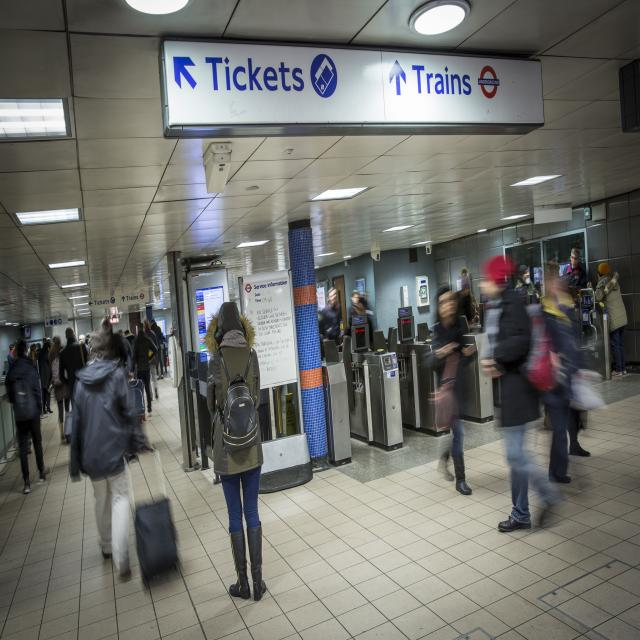body: (424, 252, 596, 538), (68, 326, 154, 581), (203, 298, 269, 604), (4, 338, 52, 496), (586, 260, 629, 380), (58, 326, 90, 412), (130, 322, 158, 417), (47, 335, 71, 445), (28, 335, 51, 415), (341, 294, 373, 348), (100, 316, 136, 364), (142, 318, 160, 402), (562, 247, 587, 297), (321, 287, 341, 346), (150, 318, 164, 381), (347, 288, 360, 322), (77, 332, 91, 352), (6, 344, 16, 365)
